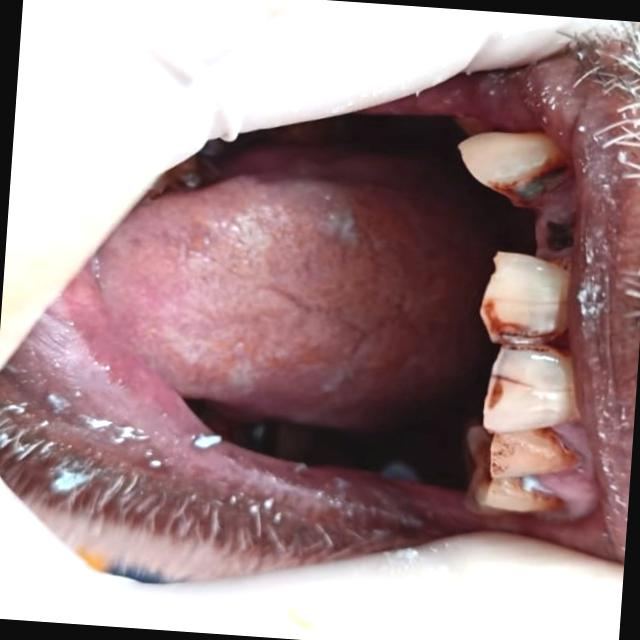No Cancer: (155, 181, 418, 384)
